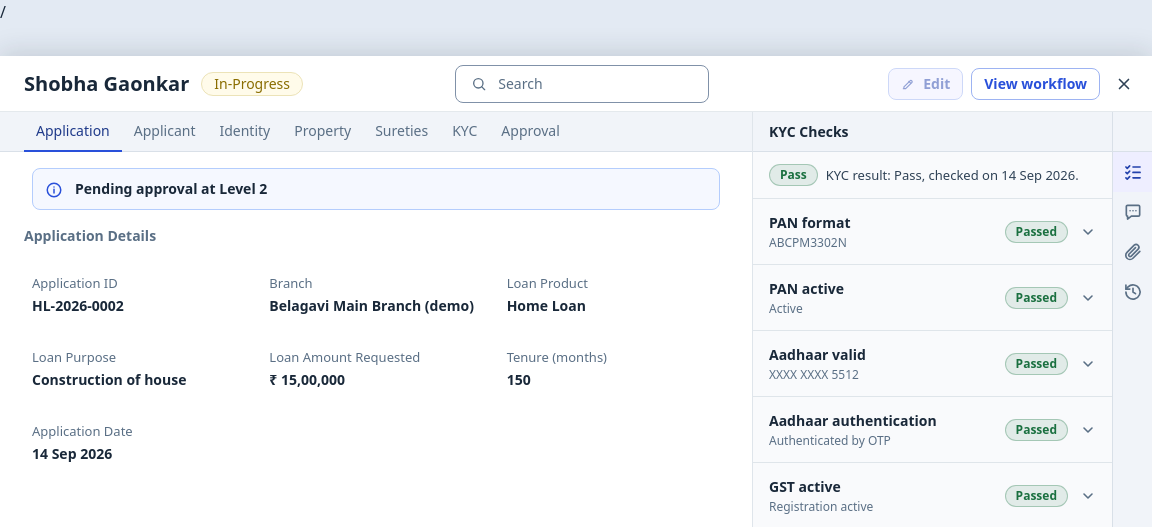
Test: the panel › shows the status and the folder of a record that is in Level 2: Pending approval
The width and height of the screenshot is (1152, 527).
Click the button named "Files and Attachments": click(1132, 252) [1113, 232, 1151, 272]
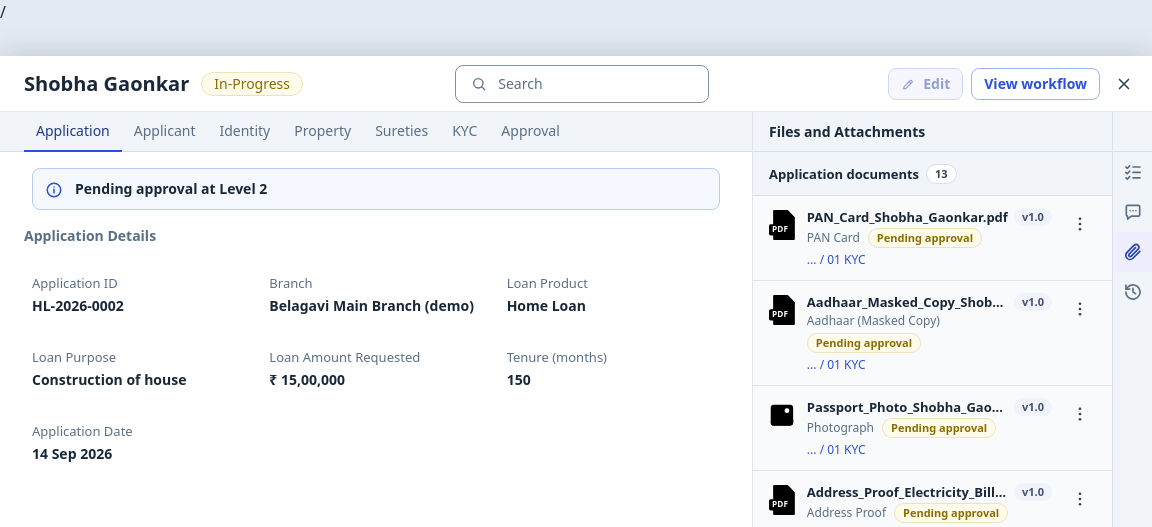
expect the text "Pending approval" next to "PAN Card" is shown: met, box [877, 230, 973, 245]
